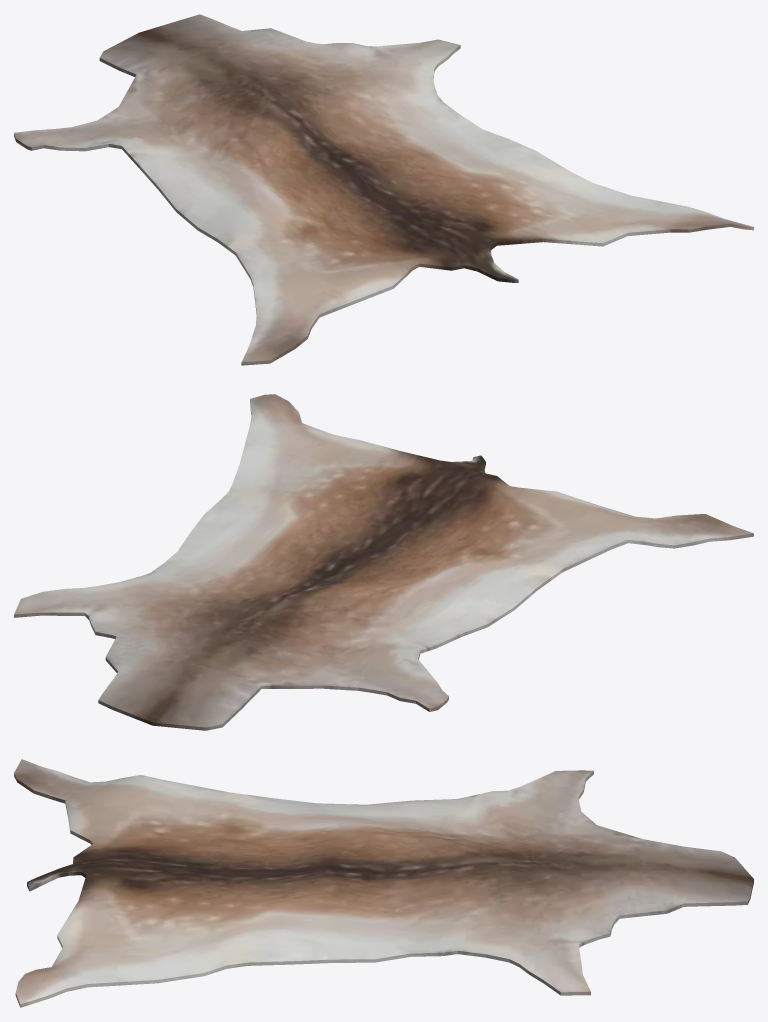
File: SM_Rug_Deer_f741e9.glb
3 views of the same model, one above another, from view 1: azimuth 30°, elevation 25°; view 2: azimuth 150°, elevation 25°; view 3: azimuth 270°, elevation 25° (orthographic). The views are drawn at different scales.
Size of the model in its own units: 1.42 by 0.085 by 1.73.
1 material, 1 textured.
